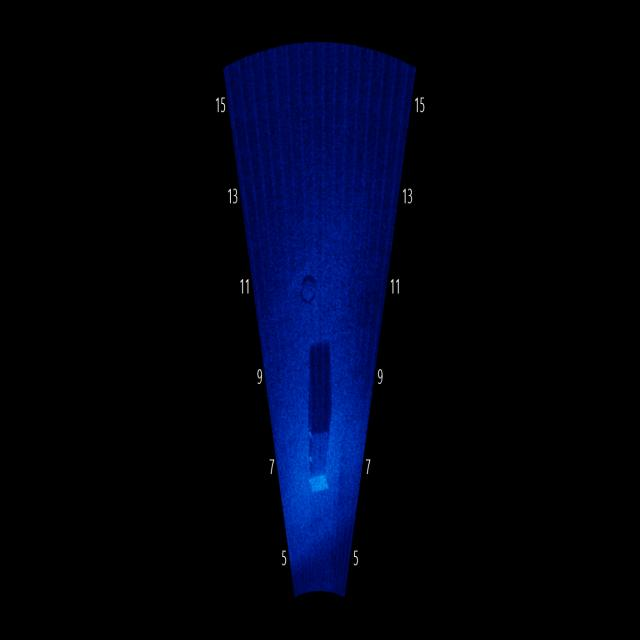square: (299, 400, 332, 504)
